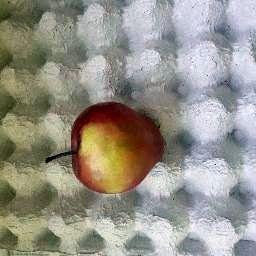apple: (34, 95, 173, 201)
